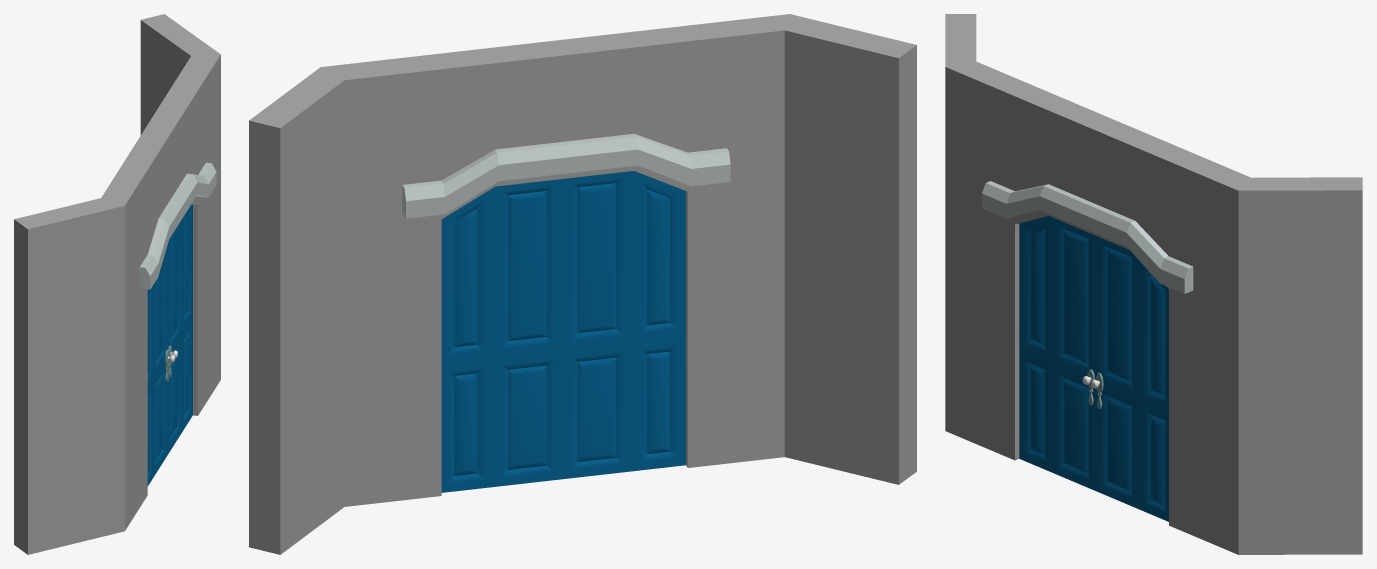
Rendered from NY_STreet_Door_Building_Bevel.fbx.
3 views of the same model, side by side, from view 1: azimuth 30°, elevation 25°; view 2: azimuth 150°, elevation 25°; view 3: azimuth 270°, elevation 25° (orthographic). The views are drawn at different scales.
Visible parts, largest first — view 1: NY_STreet_Door_Building_Bevel; view 2: NY_STreet_Door_Building_Bevel; view 3: NY_STreet_Door_Building_Bevel.
Boxes of the visible parts, left/top/right/bottom form: NY_STreet_Door_Building_Bevel: left=14, top=14, right=220, bottom=554; NY_STreet_Door_Building_Bevel: left=249, top=14, right=916, bottom=554; NY_STreet_Door_Building_Bevel: left=945, top=14, right=1362, bottom=554.
Bounding box in the file's own units: 416 × 400 × 415.
